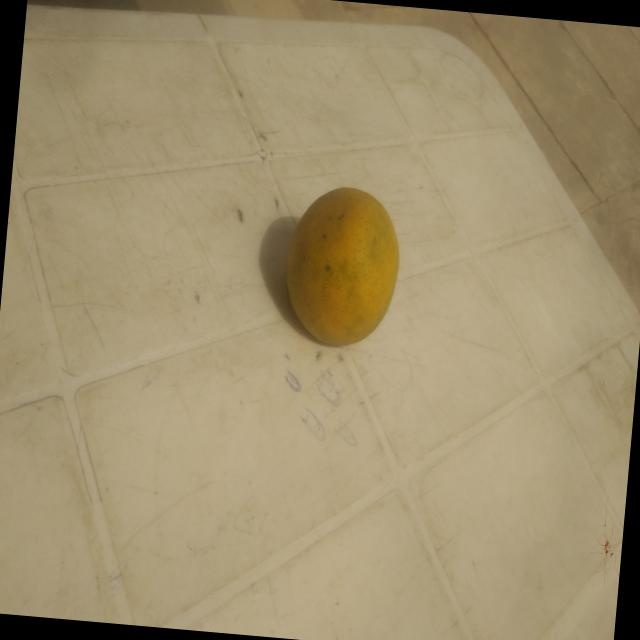agrume: (254, 143, 426, 399)
